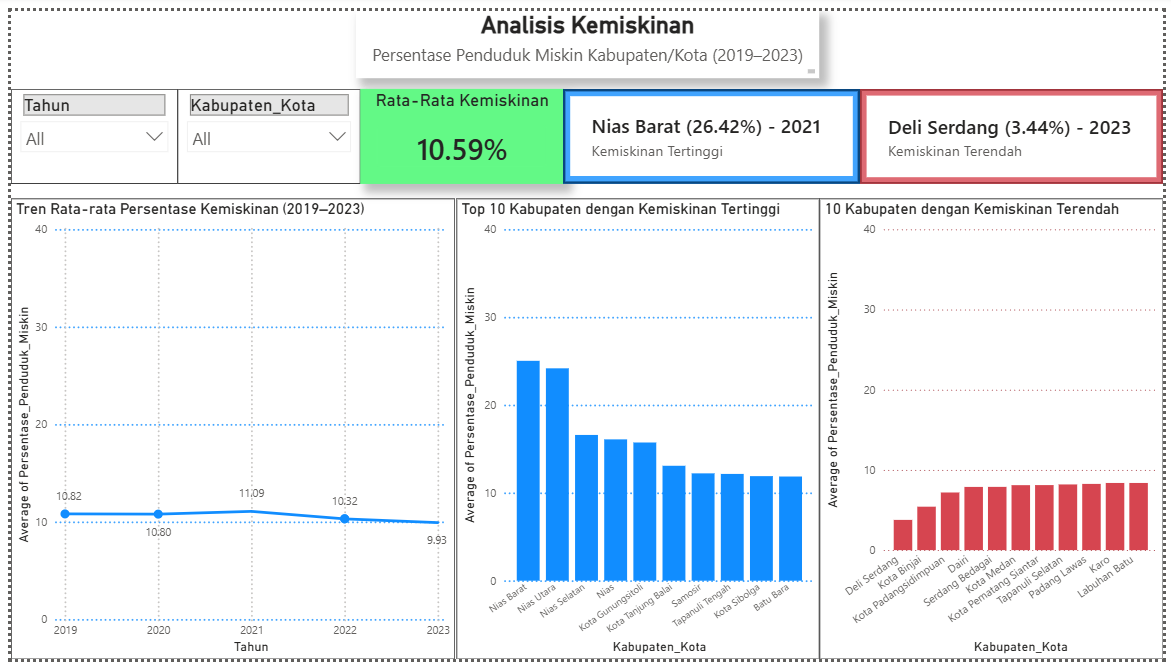

This screenshot's page, from the dashboard's own definition file:
{"tool":"powerbi","page":{"name":"📊 Analisis Kemiskinan","canvas":[1280,720],"ordinal":3},"visuals":[{"type":"lineChart","title":"Tren Rata-rata Persentase Kemiskinan (2019–2023)","fields":{"Category":["dim_tahun.Tahun"],"Y":["Avg(kemiskinan_master.Persentase_Penduduk_Miskin)"]},"box":[0,208.3,493.3,511.7],"z":0},{"type":"clusteredColumnChart","title":"Top 10 Kabupaten dengan Kemiskinan Tertinggi","fields":{"Y":["Avg(kemiskinan_master.Persentase_Penduduk_Miskin)"],"Category":["dim_wilayah.Kabupaten_Kota"]},"box":[495,208.3,403.3,511.7],"z":1000},{"type":"clusteredColumnChart","title":"10 Kabupaten dengan Kemiskinan Terendah","fields":{"Category":["dim_wilayah.Kabupaten_Kota"],"Y":["Avg(kemiskinan_master.Persentase_Penduduk_Miskin)"]},"box":[898.3,208.3,381.7,511.7],"z":2000},{"type":"textbox","title":"Analisis Kemiskinan","box":[382.5,0,514.9,74.5],"z":3000},{"type":"slicer","fields":{"Values":["dim_tahun.Tahun"]},"box":[0,86.7,185,105],"z":4000},{"type":"slicer","fields":{"Values":["dim_wilayah.Kabupaten_Kota"]},"box":[185,86.7,203.3,105],"z":5000},{"type":"cardVisual","title":"Rata-Rata Kemiskinan","fields":{"Data":["Tables.Average Kemiskinan"]},"box":[388.3,86.7,225,105],"z":6000},{"type":"cardVisual","fields":{"Data":["Tables.Kemiskinan Tertinggi"]},"box":[613.3,86.7,330,105],"z":7000},{"type":"cardVisual","fields":{"Data":["Tables.Kemiskinan Terendah"]},"box":[943.3,86.7,336.7,105],"z":8000}]}

Visuals, with their boxes in screenshot pixels (x1, y1, x2, y2), scaled from the page's 1280x720 canvas onto the 1171x664 screenshot:
"Tren Rata-rata Persentase Kemiskinan (2019–2023)" lineChart: 0/192/451/663
"Top 10 Kabupaten dengan Kemiskinan Tertinggi" clusteredColumnChart: 453/192/822/663
"10 Kabupaten dengan Kemiskinan Terendah" clusteredColumnChart: 822/192/1170/663
"Analisis Kemiskinan" textbox: 350/0/821/69
slicer - dim_tahun.Tahun: 0/80/169/177
slicer - dim_wilayah.Kabupaten_Kota: 169/80/355/177
"Rata-Rata Kemiskinan" cardVisual: 355/80/561/177
cardVisual - Tables.Kemiskinan Tertinggi: 561/80/863/177
cardVisual - Tables.Kemiskinan Terendah: 863/80/1170/177
